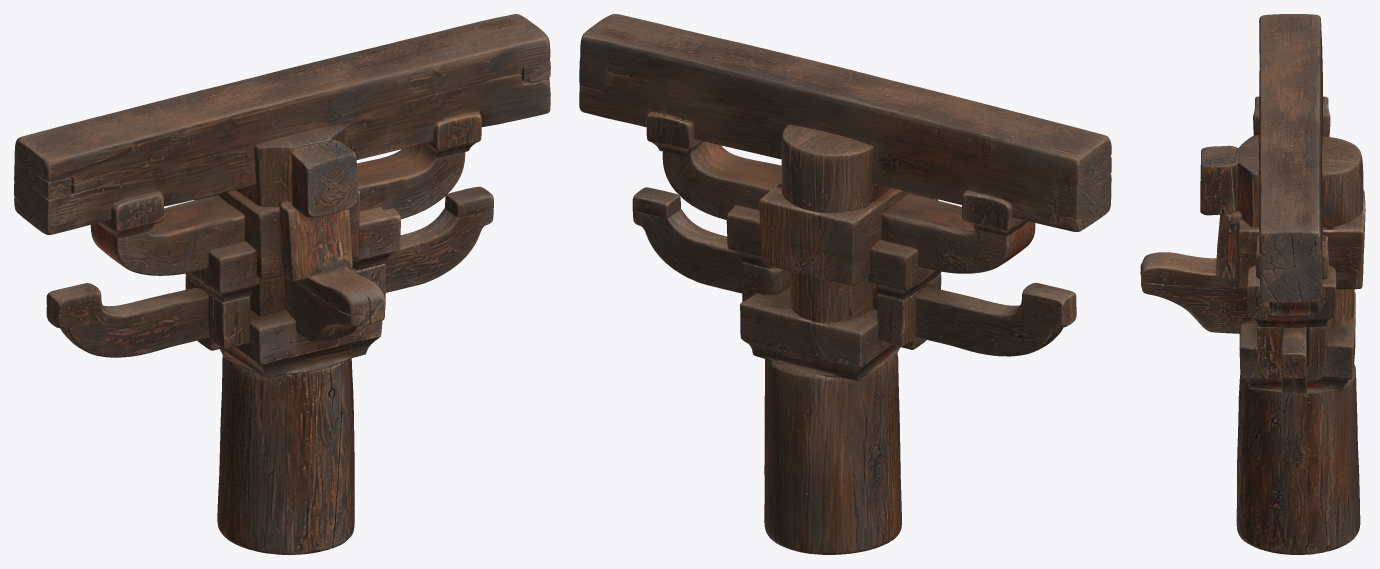
The model's file is timber-bracket.glb.
The picture shows the model from 3 angles, left to right: view 1: azimuth 30°, elevation 25°; view 2: azimuth 150°, elevation 25°; view 3: azimuth 270°, elevation 25°; orthographic projection. The views are drawn at different scales.
Parts seen in each view (by area): view 1: model; view 2: model; view 3: model.
Boxes of the visible parts, box(x1,y1,x2,y2) form: model: box(14, 14, 550, 554); model: box(579, 14, 1111, 554); model: box(1140, 14, 1365, 554).
Bounding box in the file's own units: 1.9 × 1.62 × 0.8148.
1 material, 1 textured.
